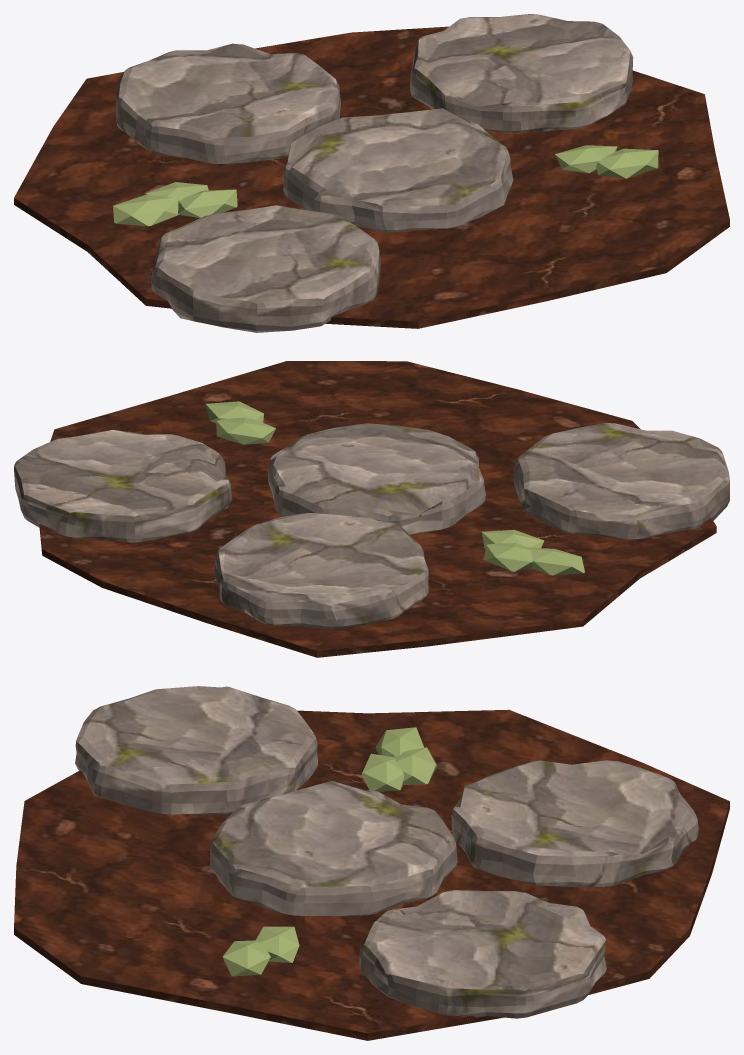
File: stepping_stones.glb
3 views of the same model, one above another, from view 1: azimuth 30°, elevation 25°; view 2: azimuth 150°, elevation 25°; view 3: azimuth 270°, elevation 25° (orthographic). The views are drawn at different scales.
Visible parts, largest first — view 1: model; view 2: model; view 3: model.
Part boxes in pixels (<box>): model: <box>14,14,729,332</box>; model: <box>14,361,729,657</box>; model: <box>14,686,729,1040</box>.
Size of the model in its own units: 1.12 by 0.0878 by 1.04.
Materials: 3 (2 with a texture image).
